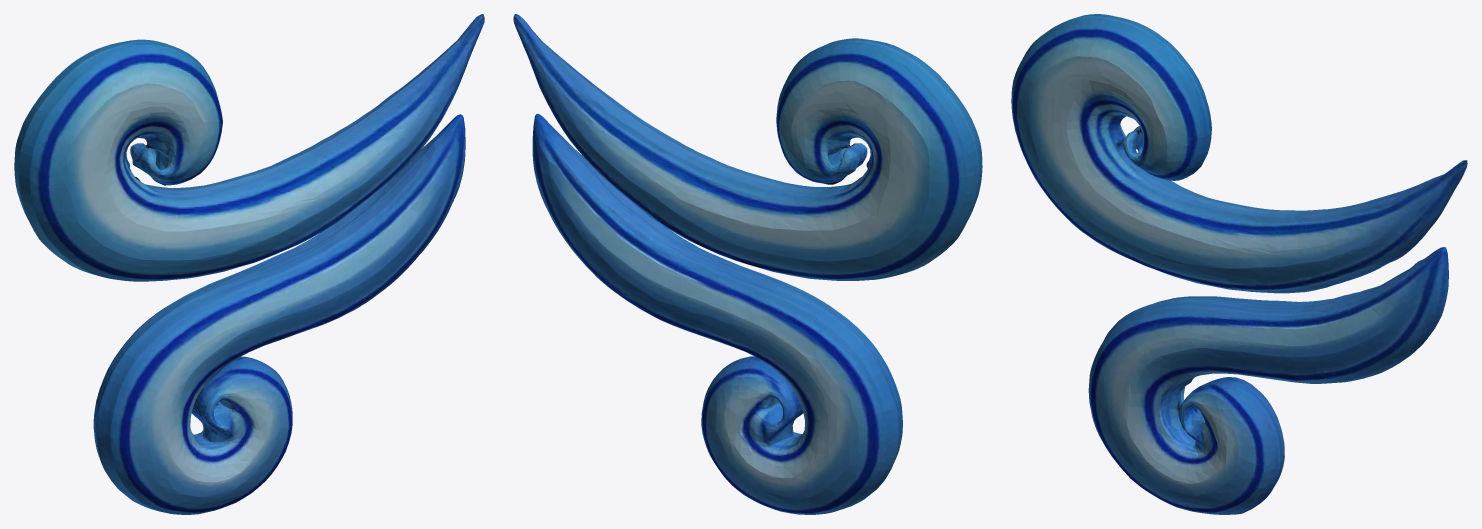
Rendered from gust.glb.
The picture shows the model from 3 angles, left to right: view 1: azimuth 30°, elevation 25°; view 2: azimuth 150°, elevation 25°; view 3: azimuth 330°, elevation 25°; orthographic projection. The views are drawn at different scales.
Visible parts, largest first — view 1: world.001; view 2: world.001; view 3: world.001.
Boxes of the visible parts, x1,y1,x2,y2 form: world.001: (14, 14, 484, 514); world.001: (513, 14, 982, 514); world.001: (1011, 14, 1467, 514).
Size of the model in its own units: 0.9991 by 0.9999 by 0.1374.
Materials: 1 (1 with a texture image).
